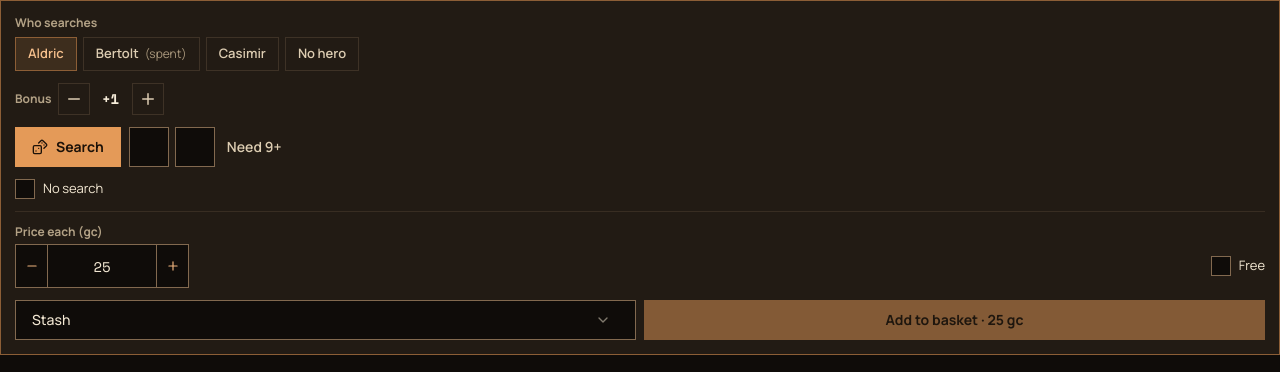
Test: AcquireForm › rolls the search with no hero, and says when none was found
What coordinates should you click on to do the following:
click the button "No hero"
I would click on:
 (322, 54)
Its box is [285,37,359,71].
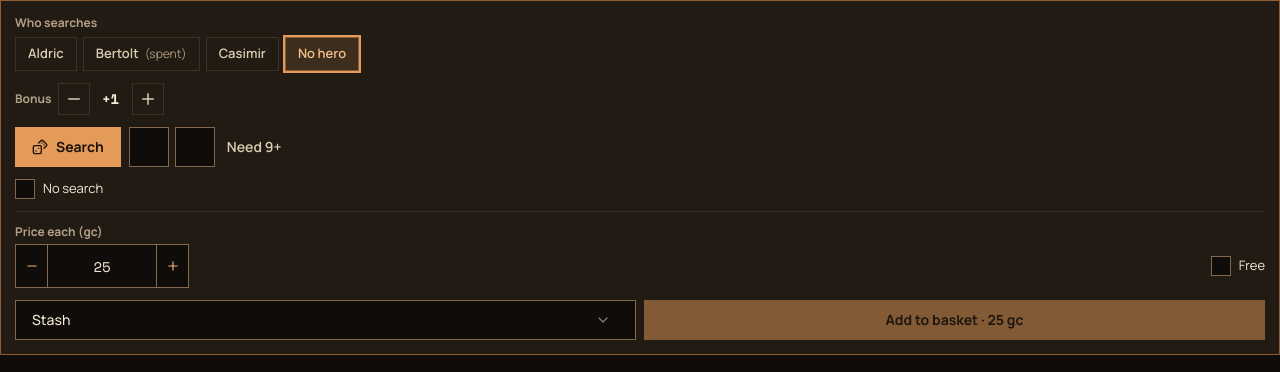
What coordinates should you click on to do the following:
click the button "Search"
I would click on:
 (68, 147)
Its box is [15,127,121,167].
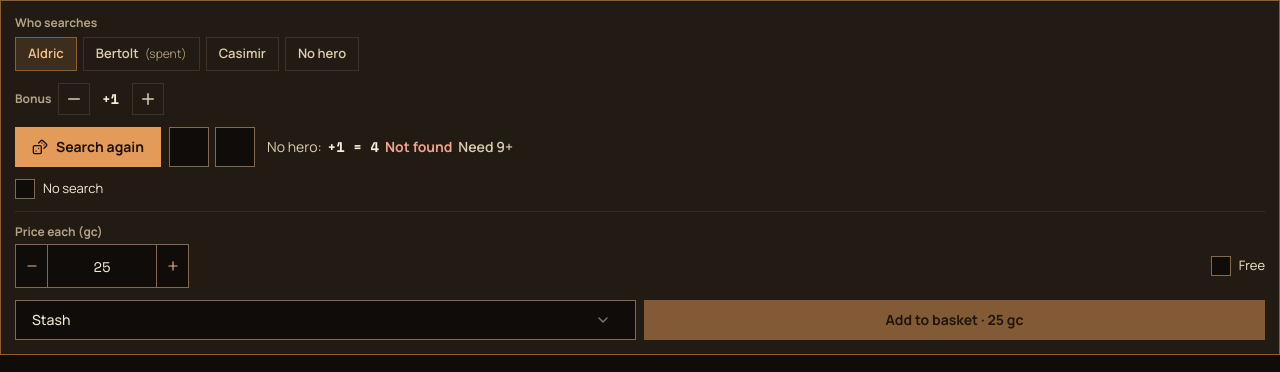
Now the message shows "+1 = 4 Not found", box [267,137,513,157]
